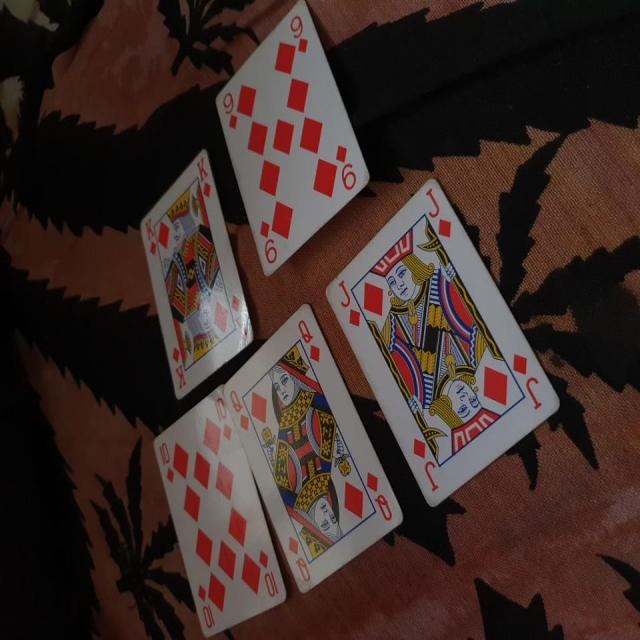10 Diamonds: (150, 386, 287, 640)
9 Diamonds: (210, 1, 371, 276)
J Diamonds: (324, 175, 562, 508)
K Diamonds: (140, 148, 254, 402)
Q Diamonds: (222, 301, 407, 594)
